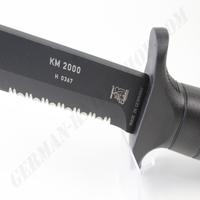knife: (1, 22, 196, 156)
